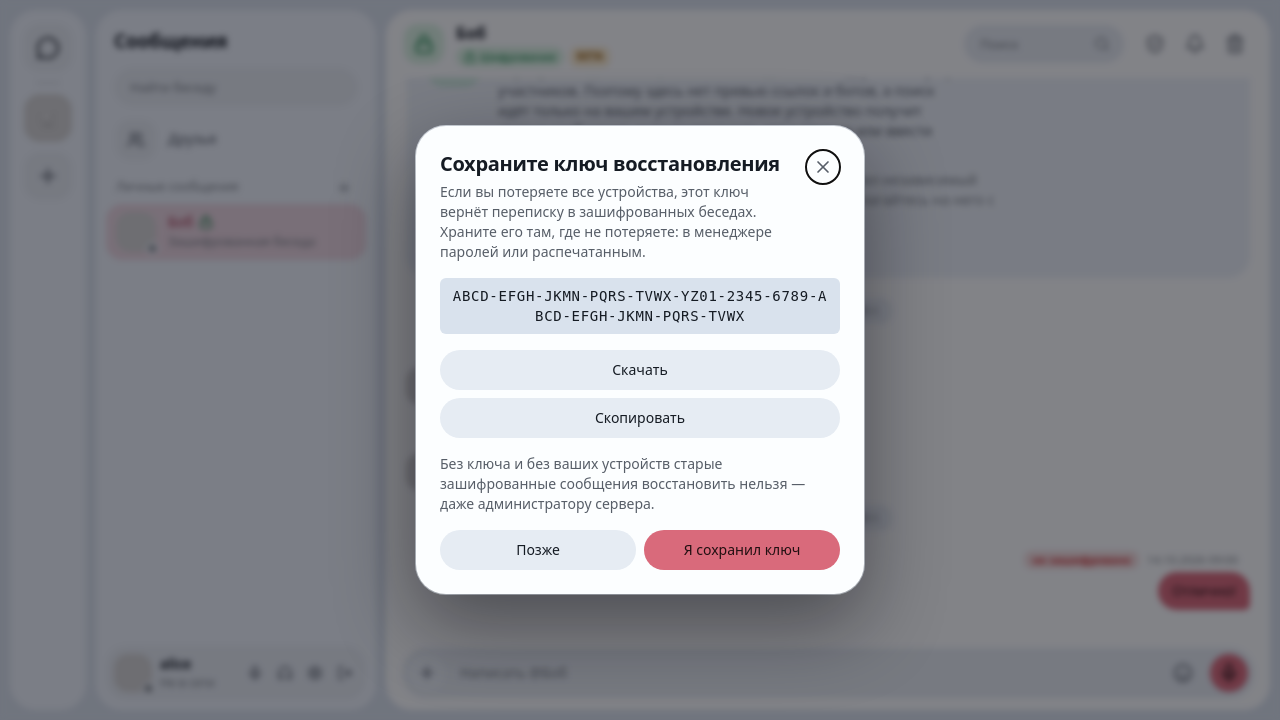
Test: the recovery key › asks once to be saved, and stops asking when it is
Expected: the text "ABCD-EFGH-JKMN-PQRS-TVWX-YZ01-2345-6789-ABCD-EFGH-JKMN-PQRS-TVWX" is shown, 440,278 -> 840,334
Expected: the button "Скачать" is shown, 440,350 -> 840,390
Click the button "Я сохранил ключ" at x=742, y=550, box 644,530 -> 840,570
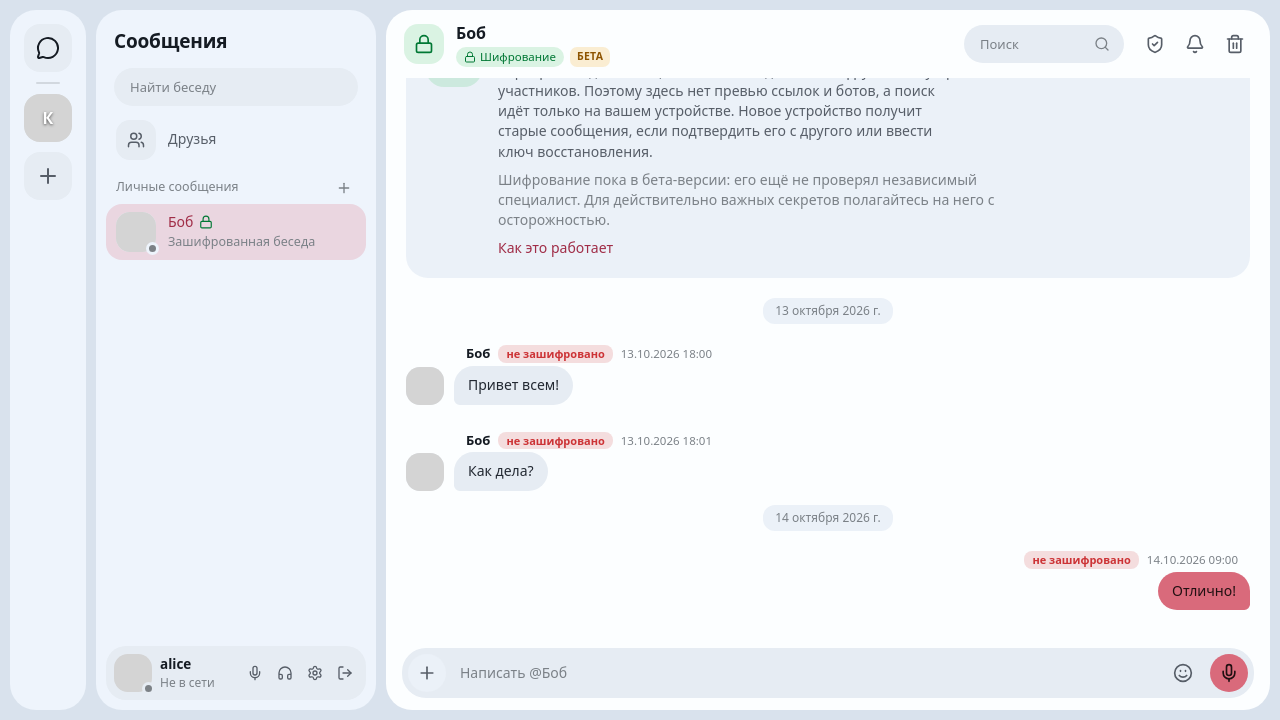
Result: the dialog is gone
